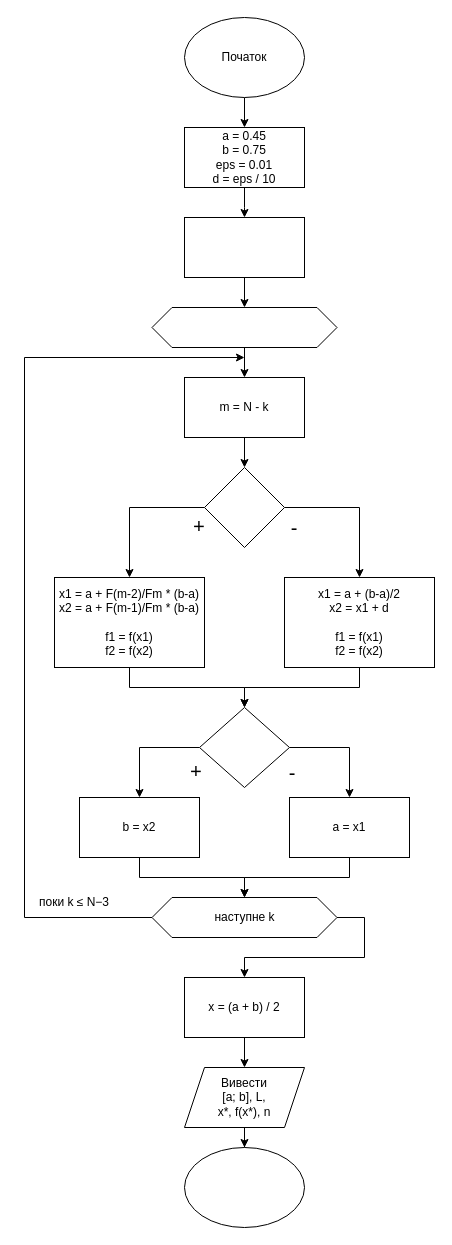
This 452x1245 diagram has some shape labels left out. The shapes that lost their labels are listed below. From the top down, each one's box as (x1, y1, x2, y2) in pixels, then its label:
(184, 216, 304, 278): R = (b - a) / eps Знайти N: FN >= R
(151, 306, 337, 348): k = 0, 1, ..., N-3
(204, 466, 284, 548): m > 3 ?
(198, 706, 290, 788): f1 <= f2 ?
(184, 1146, 304, 1228): Кінець
